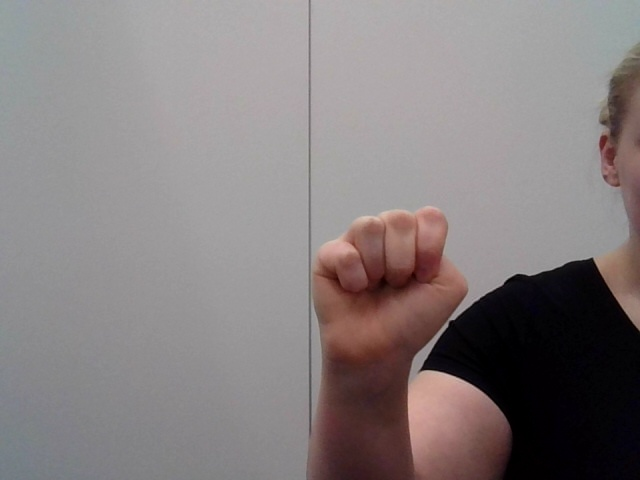down: (297, 200, 491, 374)
